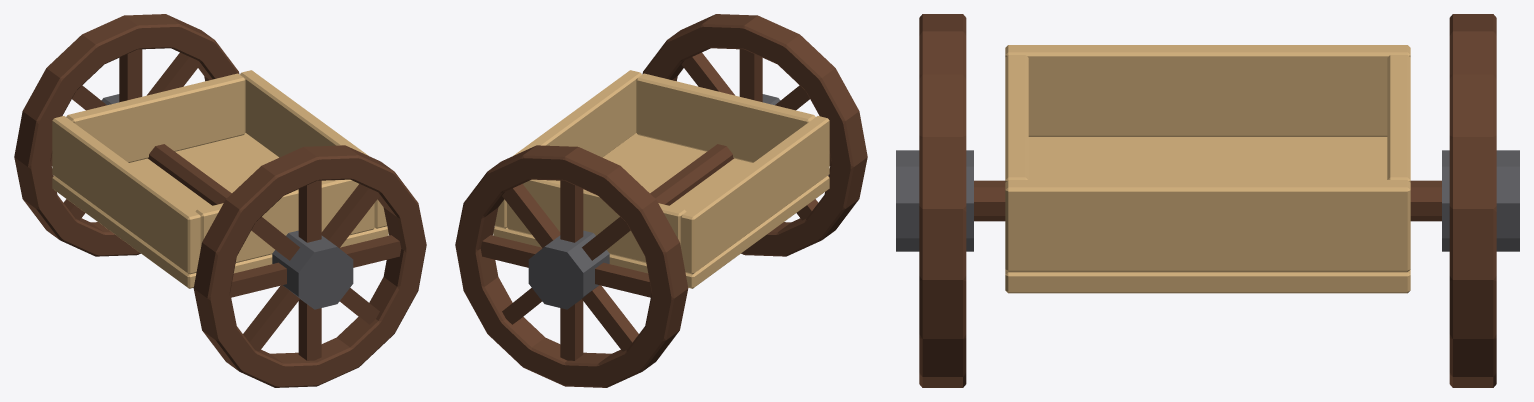
Rendered from KANJI_02_KURUMA.fbx.
3 renders of one model, left to right at view 1: azimuth 30°, elevation 25°; view 2: azimuth 150°, elevation 25°; view 3: azimuth 270°, elevation 25°, orthographic. The views are drawn at different scales.
Parts seen in each view (by area): view 1: SM_KANJI_02_Rueda_S, SM_KANJI_02_Caja, SM_KANJI_02_Rueda_N, SM_KANJI_02_Eje; view 2: SM_KANJI_02_Rueda_N, SM_KANJI_02_Caja, SM_KANJI_02_Rueda_S, SM_KANJI_02_Eje; view 3: SM_KANJI_02_Caja, SM_KANJI_02_Rueda_N, SM_KANJI_02_Rueda_S, SM_KANJI_02_Eje.
Part boxes in pixels (bbox=[...]): SM_KANJI_02_Rueda_S: bbox=[193, 145, 426, 387]; SM_KANJI_02_Caja: bbox=[52, 70, 388, 288]; SM_KANJI_02_Rueda_N: bbox=[14, 14, 239, 256]; SM_KANJI_02_Eje: bbox=[148, 144, 231, 205]; SM_KANJI_02_Rueda_N: bbox=[455, 145, 688, 387]; SM_KANJI_02_Caja: bbox=[493, 70, 829, 288]; SM_KANJI_02_Rueda_S: bbox=[642, 14, 867, 256]; SM_KANJI_02_Eje: bbox=[650, 144, 733, 205]; SM_KANJI_02_Caja: bbox=[1005, 45, 1410, 293]; SM_KANJI_02_Rueda_N: bbox=[1442, 14, 1519, 387]; SM_KANJI_02_Rueda_S: bbox=[896, 14, 973, 387]; SM_KANJI_02_Eje: bbox=[974, 180, 1441, 221].
Size of the model in its own units: 0.24 by 0.24 by 0.4.
